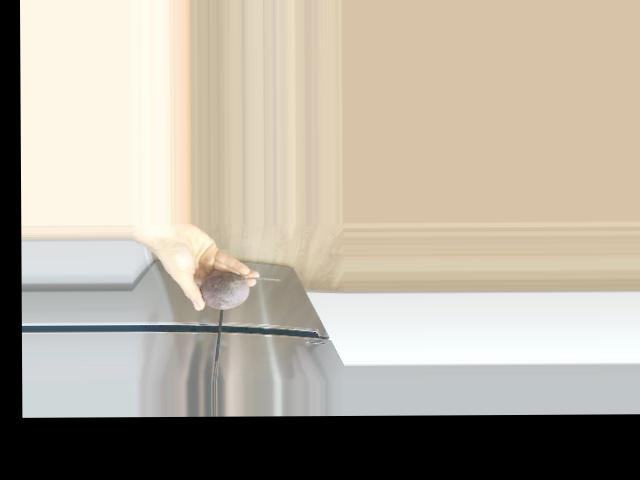beet: (200, 271, 282, 309)
